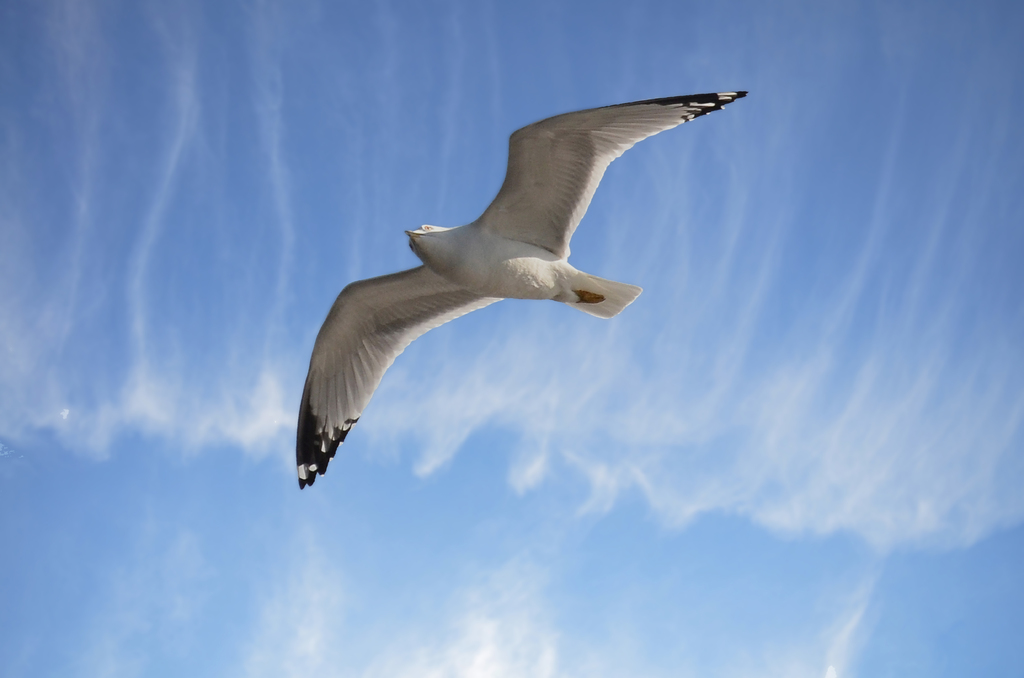Bird: (295, 90, 749, 490)
